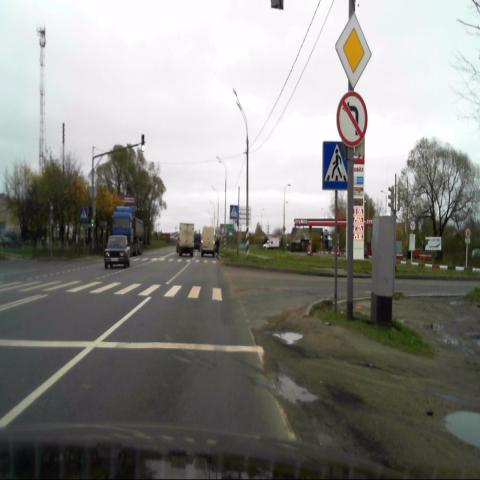3_18_2: (336, 91, 368, 147)
